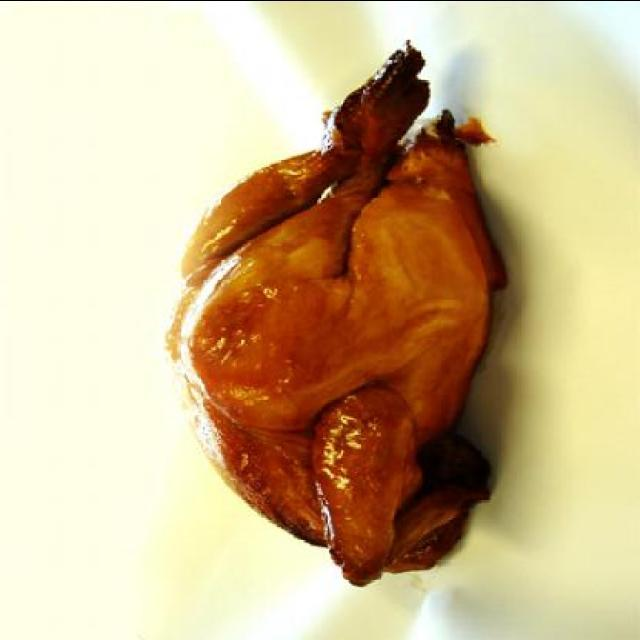Chicken roast: (162, 68, 520, 610)
